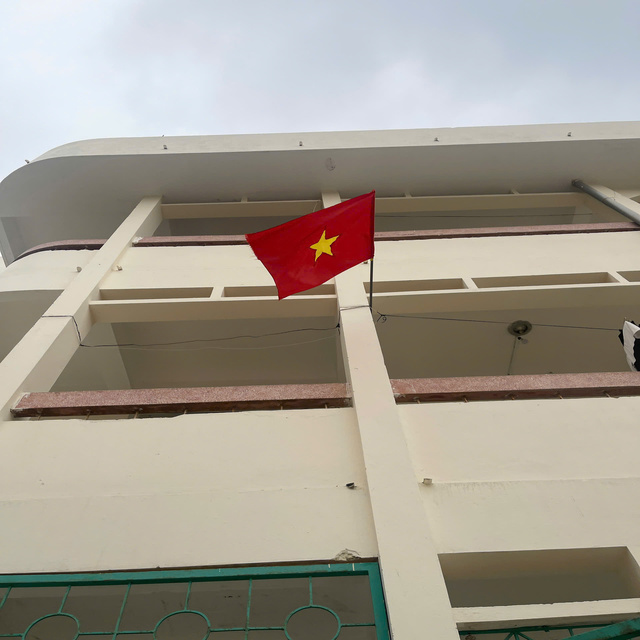laco: (225, 194, 401, 291)
